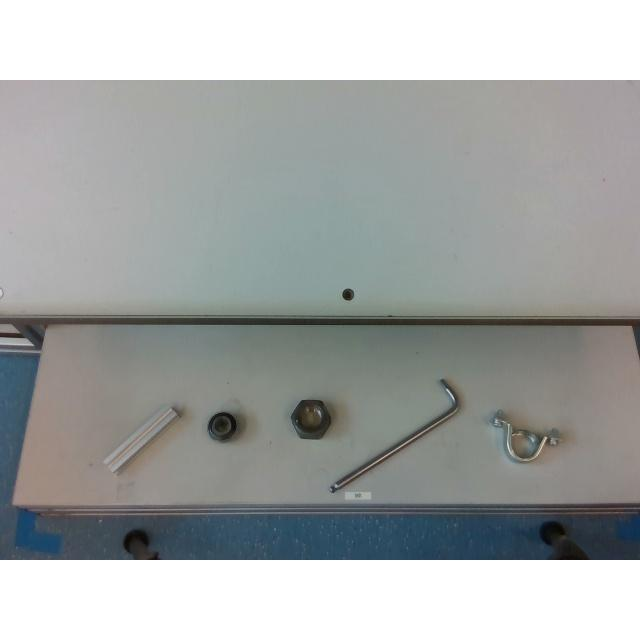AllenKey: (329, 380, 459, 492)
Bearing2: (208, 412, 236, 441)
F20_20_G: (102, 406, 178, 474)
Housing: (489, 411, 559, 462)
M30: (290, 399, 330, 439)
